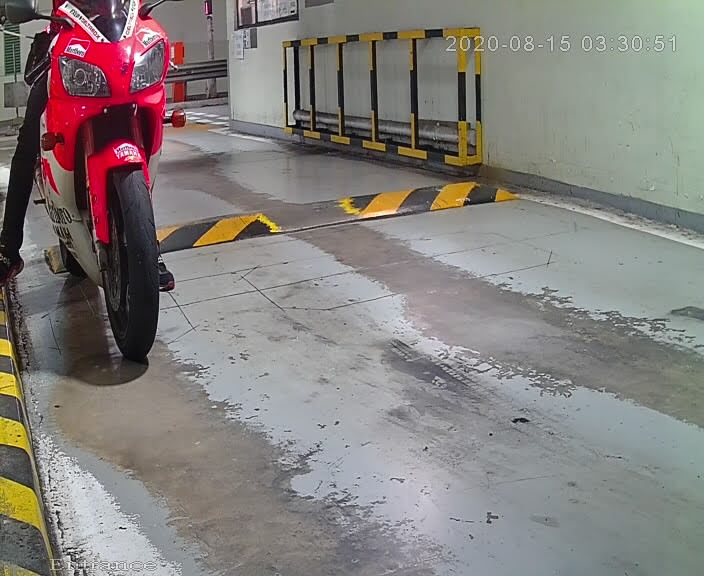motorcycle: (1, 6, 202, 384)
